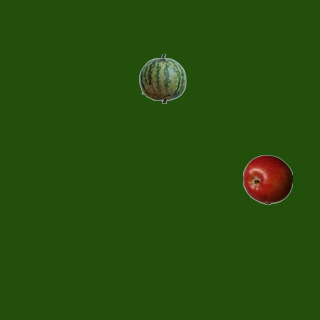Apple Braeburn: (242, 154, 292, 204)
Watermelon: (137, 53, 187, 103)
